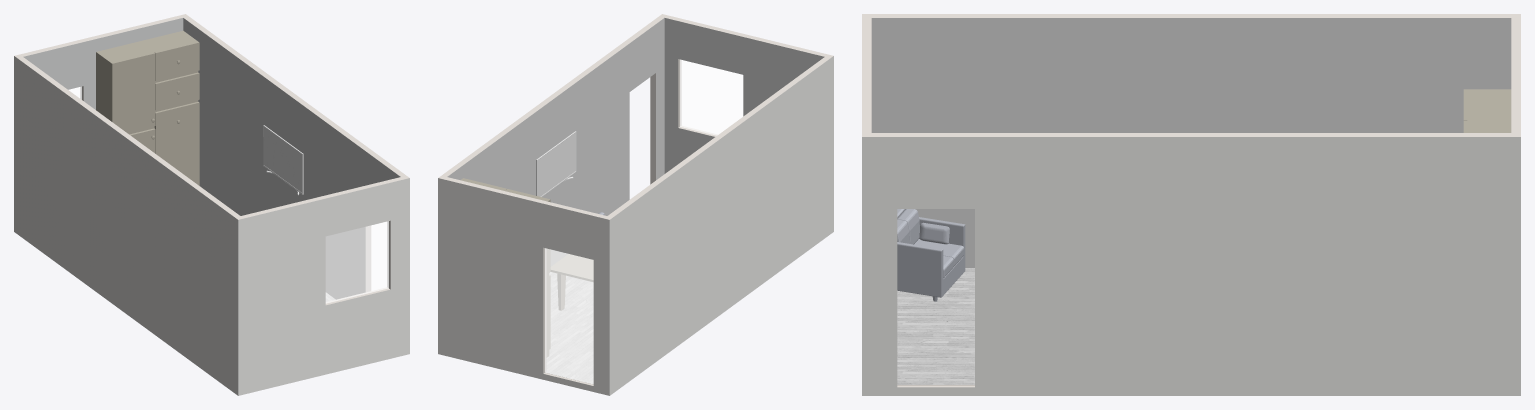
File: Salle_211.glb
3 views of the same model, side by side, from view 1: azimuth 30°, elevation 25°; view 2: azimuth 150°, elevation 25°; view 3: azimuth 270°, elevation 25° (orthographic). The views are drawn at different scales.
Visible parts, largest first — view 1: wall_3, wall_0, wall_8, storage_cabinet_tall20, window_0, window_2, wall_6, television0, wall_9, wall_11, wall_5, wall_7; view 2: wall_3, wall_1, wall_8, wall_4, door_0, door_2, floor_Living_Room, window_0, window_2, wall_9, television0, wall_11 (+4 smaller); view 3: wall_2, wall_10, floor_Living_Room, sofa_rect0, wall_9, wall_11, storage_cabinet_tall20, wall_5, wall_7.
Boxes of the visible parts, <box> form: wall_3: <box>14,56,238,395</box>; wall_0: <box>238,178,409,395</box>; wall_8: <box>183,18,400,299</box>; storage_cabinet_tall20: <box>96,30,199,185</box>; window_0: <box>326,221,388,303</box>; window_2: <box>326,221,388,303</box>; wall_6: <box>23,18,183,109</box>; television0: <box>263,125,303,195</box>; wall_9: <box>183,14,409,291</box>; wall_11: <box>15,56,240,219</box>; wall_5: <box>238,177,408,305</box>; wall_7: <box>14,14,185,100</box>; wall_3: <box>609,56,833,395</box>; wall_1: <box>438,178,609,395</box>; wall_8: <box>447,18,664,265</box>; wall_4: <box>664,18,824,173</box>; door_0: <box>545,248,593,383</box>; door_2: <box>545,248,593,383</box>; floor_Living_Room: <box>546,272,593,383</box>; window_0: <box>680,59,742,135</box>; window_2: <box>680,60,742,135</box>; wall_9: <box>438,14,664,184</box>; television0: <box>536,131,576,197</box>; wall_11: <box>607,56,832,219</box>; wall_2: <box>862,137,1520,395</box>; wall_10: <box>871,18,1511,267</box>; floor_Living_Room: <box>897,268,974,384</box>; sofa_rect0: <box>897,209,965,301</box>; wall_9: <box>863,133,1519,387</box>; wall_11: <box>862,14,1520,17</box>; storage_cabinet_tall20: <box>1463,89,1511,132</box>; wall_5: <box>862,14,871,136</box>; wall_7: <box>1511,14,1520,136</box>.
Size of the model in its own units: 3.03 by 2.97 by 6.85.
Materials: 19 (1 with a texture image).
